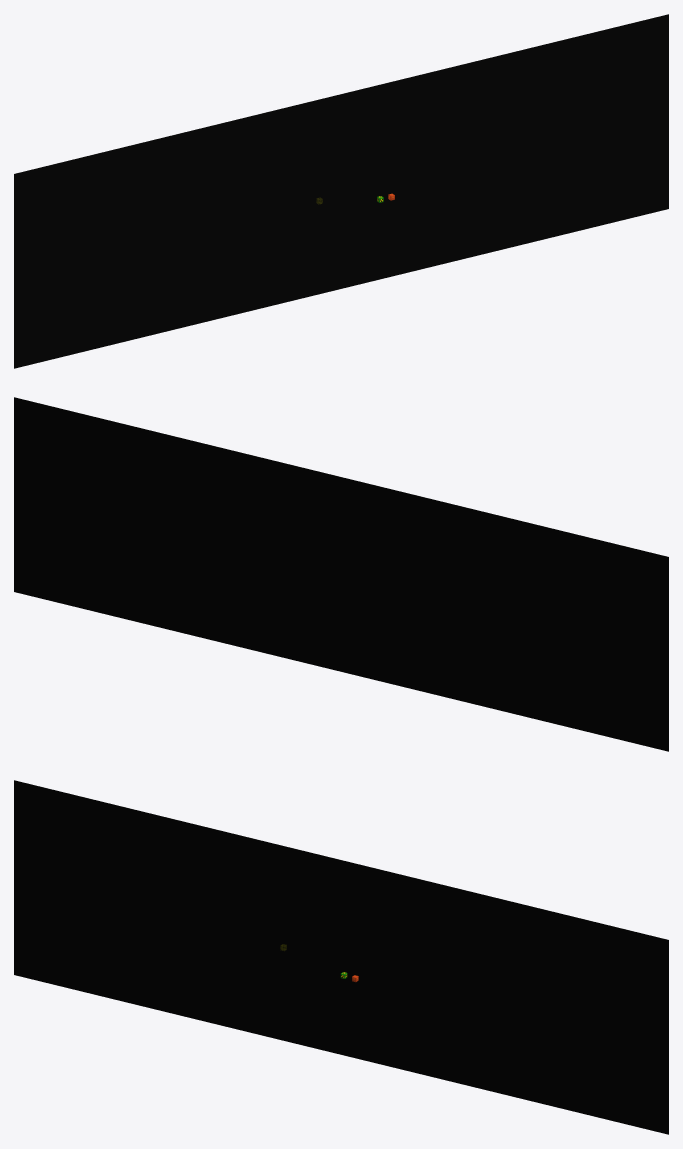
File: Hack Phoenx GlaseSelecfbx 2.fbx
3 renders of one model, top to bottom at view 1: azimuth 30°, elevation 25°; view 2: azimuth 150°, elevation 25°; view 3: azimuth 330°, elevation 25°, orthographic.
Parts seen in each view (by area): view 1: Plane; view 2: Plane; view 3: Plane.
Part boxes in pixels (x1=…): Plane: x1=14, y1=14, x2=668, y2=368; Plane: x1=14, y1=397, x2=668, y2=751; Plane: x1=14, y1=780, x2=668, y2=1134.
Size of the model in its own units: 29075 by 8262 by 1496.
